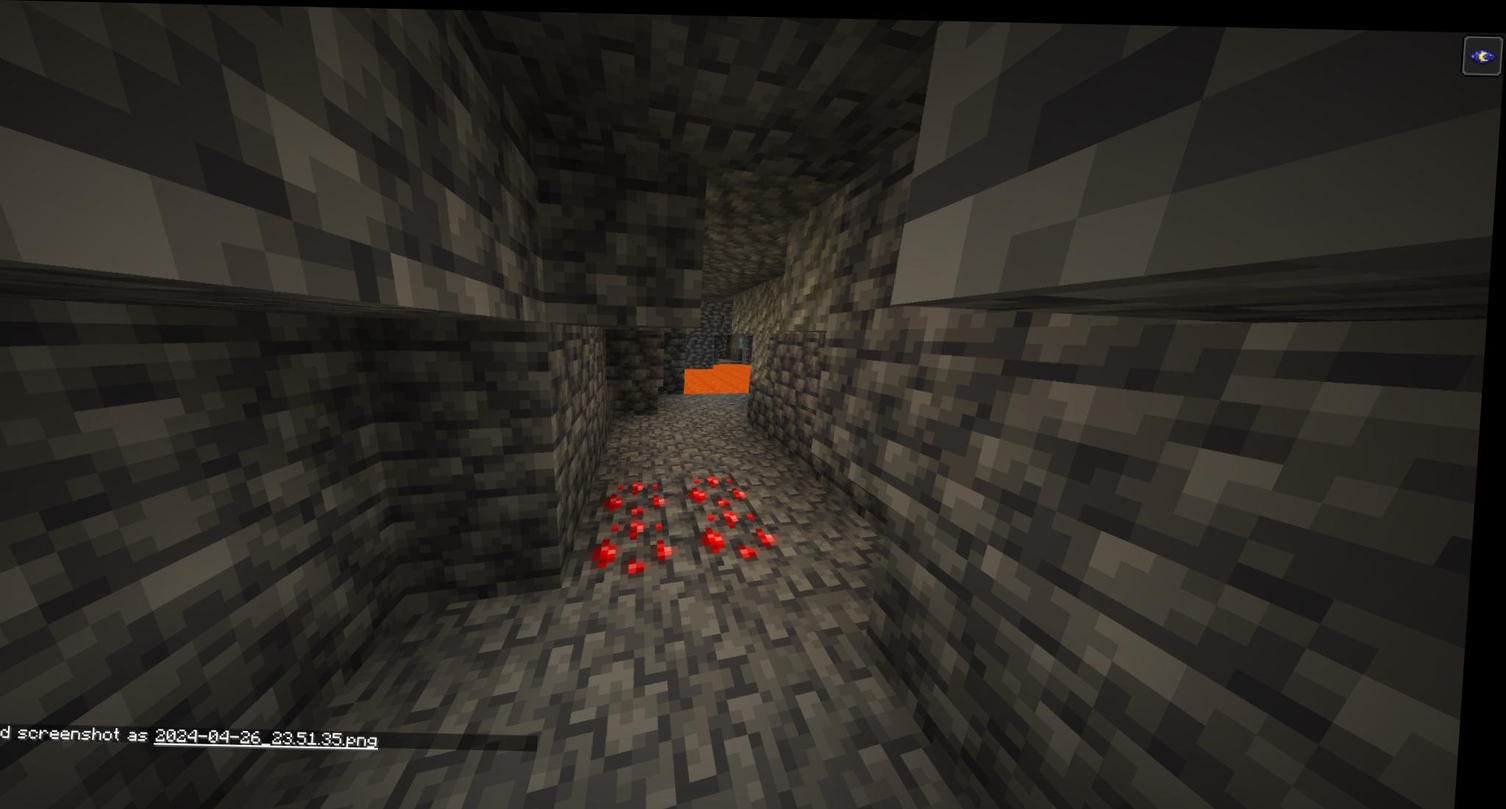redstone ore: (692, 505, 786, 566), (598, 514, 684, 577), (680, 469, 764, 512), (602, 471, 678, 514)
